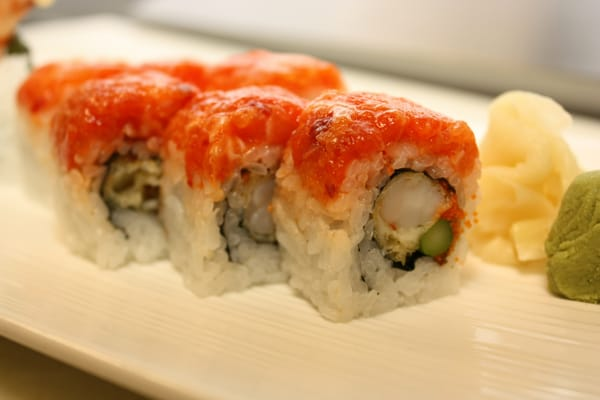salad: (269, 89, 482, 322)
